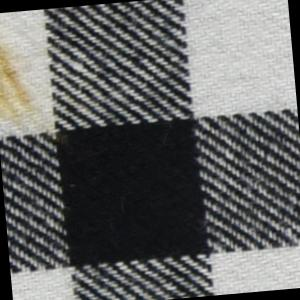Oil Stain: (1, 26, 55, 147)
